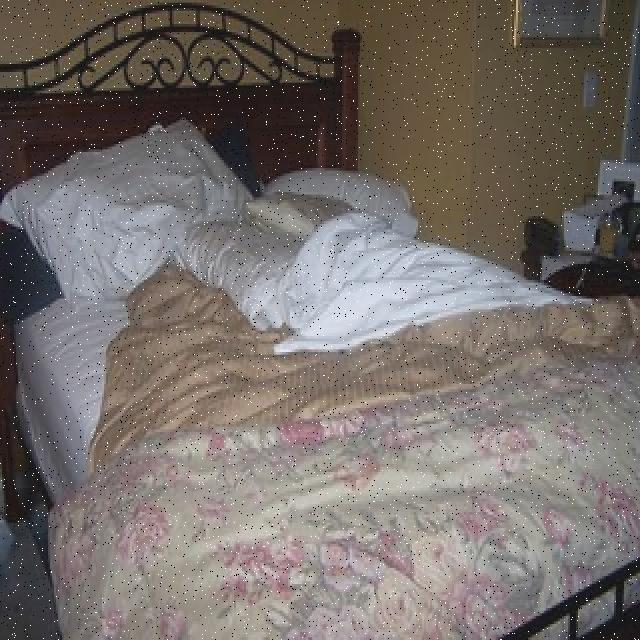bed: (18, 99, 614, 636)
